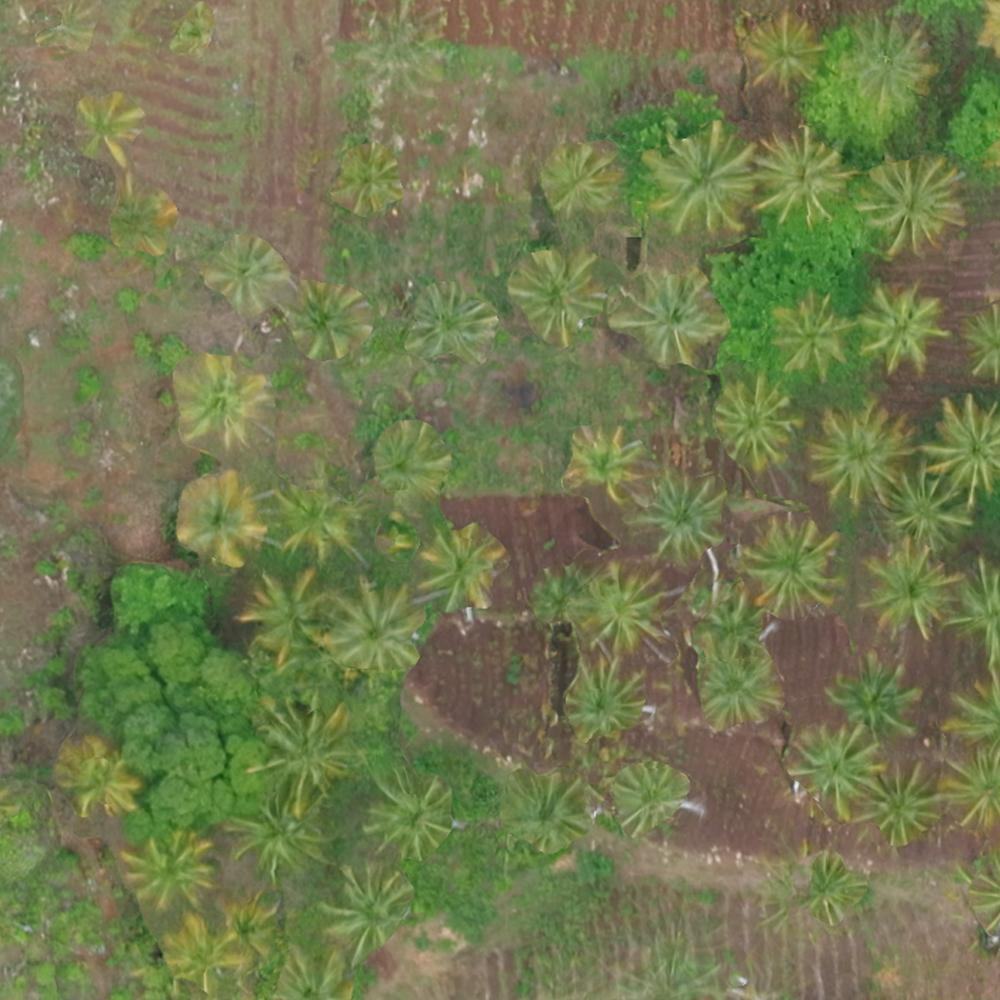Palm: (648, 126, 758, 230), (864, 154, 963, 254), (616, 262, 715, 360), (255, 696, 351, 795), (808, 410, 908, 505), (753, 130, 853, 221), (742, 518, 836, 614), (332, 579, 426, 668), (862, 544, 949, 638), (362, 769, 452, 859), (170, 356, 261, 445), (922, 397, 997, 502), (512, 250, 600, 339), (830, 651, 918, 739), (636, 471, 726, 557), (242, 567, 330, 654), (708, 378, 799, 461), (790, 726, 875, 813), (577, 567, 665, 651), (842, 25, 931, 107), (880, 469, 968, 551), (330, 866, 414, 951), (122, 829, 219, 902), (414, 525, 499, 608), (863, 284, 943, 371), (234, 796, 322, 874), (177, 481, 261, 562), (769, 299, 852, 377), (865, 760, 942, 844), (696, 646, 782, 721), (502, 767, 583, 846), (563, 661, 645, 739), (792, 849, 876, 924), (275, 482, 359, 556), (59, 741, 136, 821), (744, 11, 818, 91), (286, 283, 362, 358), (560, 419, 637, 492), (541, 142, 618, 212), (612, 760, 688, 829), (166, 913, 236, 986), (415, 288, 484, 361), (376, 423, 448, 490), (213, 236, 278, 309), (71, 93, 140, 158), (333, 150, 399, 214)
